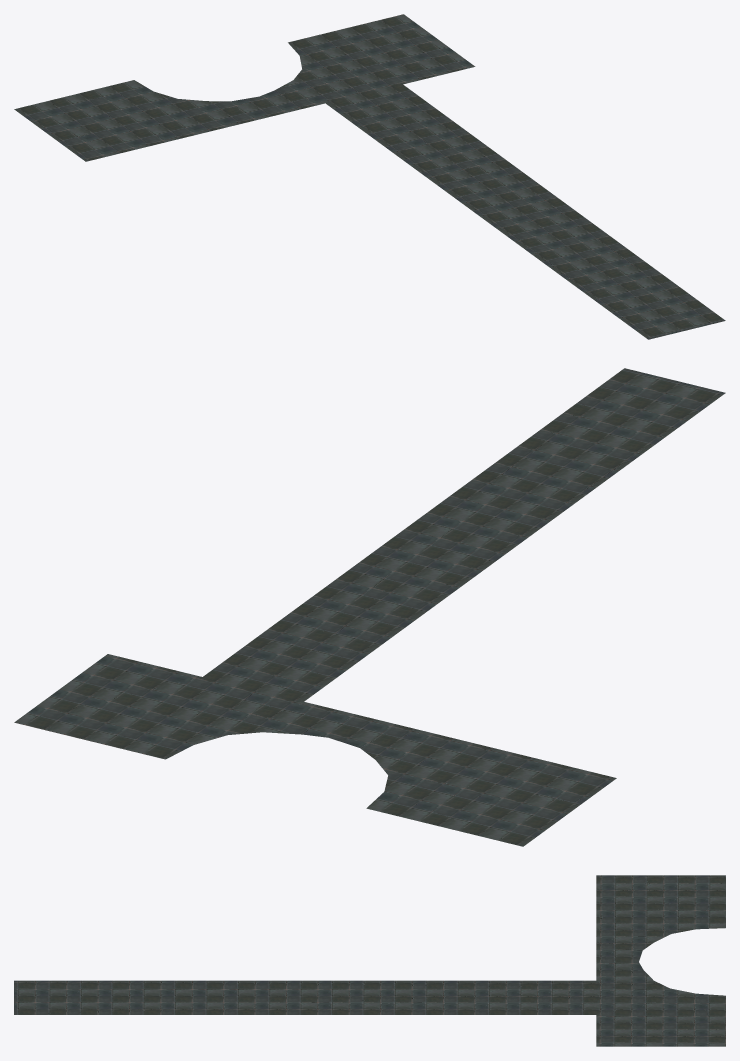
File: FB4_dizhaun03.FBX
The picture shows the model from 3 angles, top to bottom: view 1: azimuth 30°, elevation 25°; view 2: azimuth 150°, elevation 25°; view 3: azimuth 270°, elevation 25°; orthographic projection. The views are drawn at different scales.
Parts seen in each view (by area): view 1: FB4_dizhaun03_001; view 2: FB4_dizhaun03_001; view 3: FB4_dizhaun03_001.
Boxes of the visible parts, x1=… form: FB4_dizhaun03_001: x1=14, y1=14, x2=725, y2=339; FB4_dizhaun03_001: x1=14, y1=368, x2=725, y2=846; FB4_dizhaun03_001: x1=14, y1=875, x2=725, y2=1046.
Size of the model in its own units: 4037 by 0.000977 by 7083.
